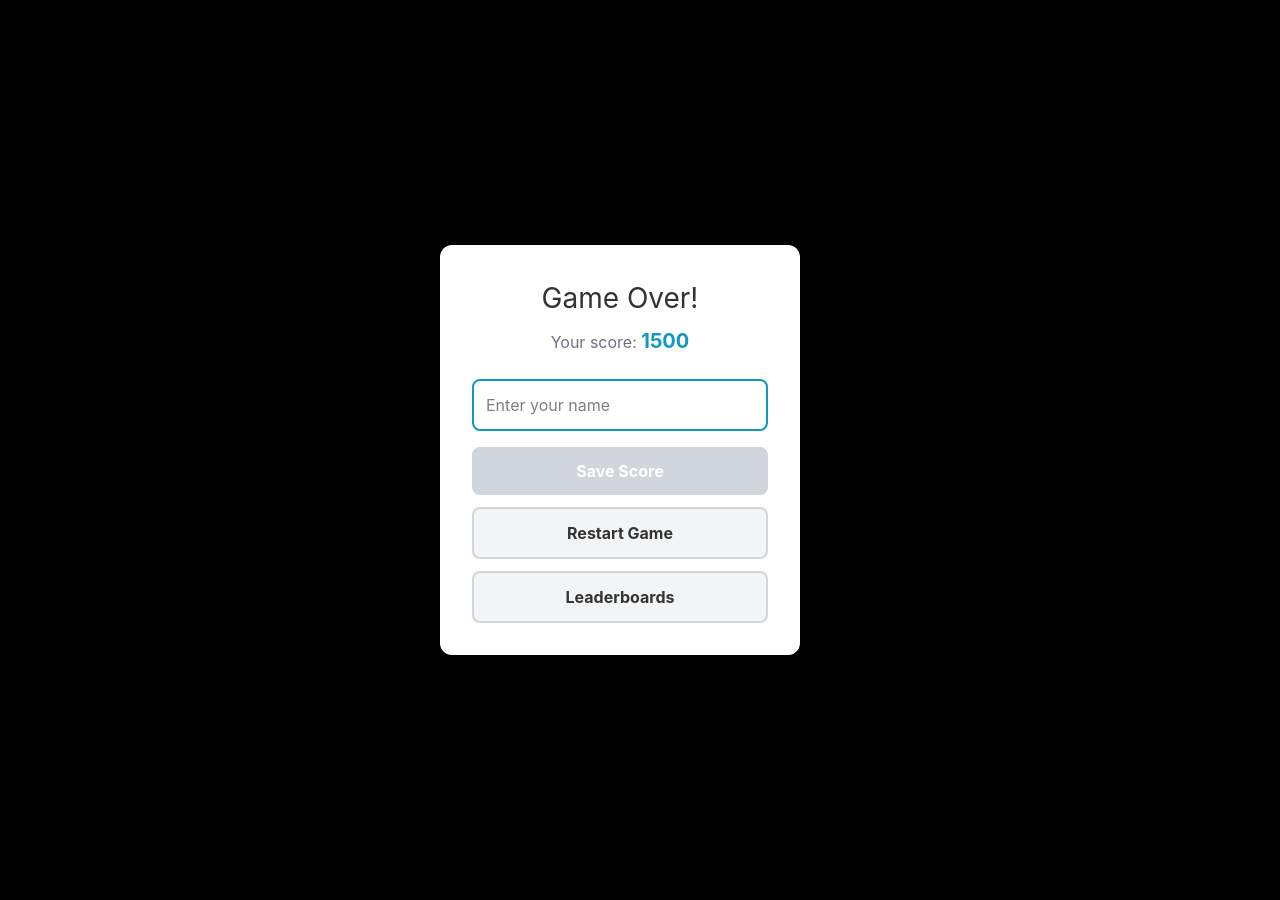
Test: ScoreModal › switches to leaderboard view when Leaderboards button is clicked
Click the button "Leaderboards". click: (620, 597)
box: [472,571,768,623]
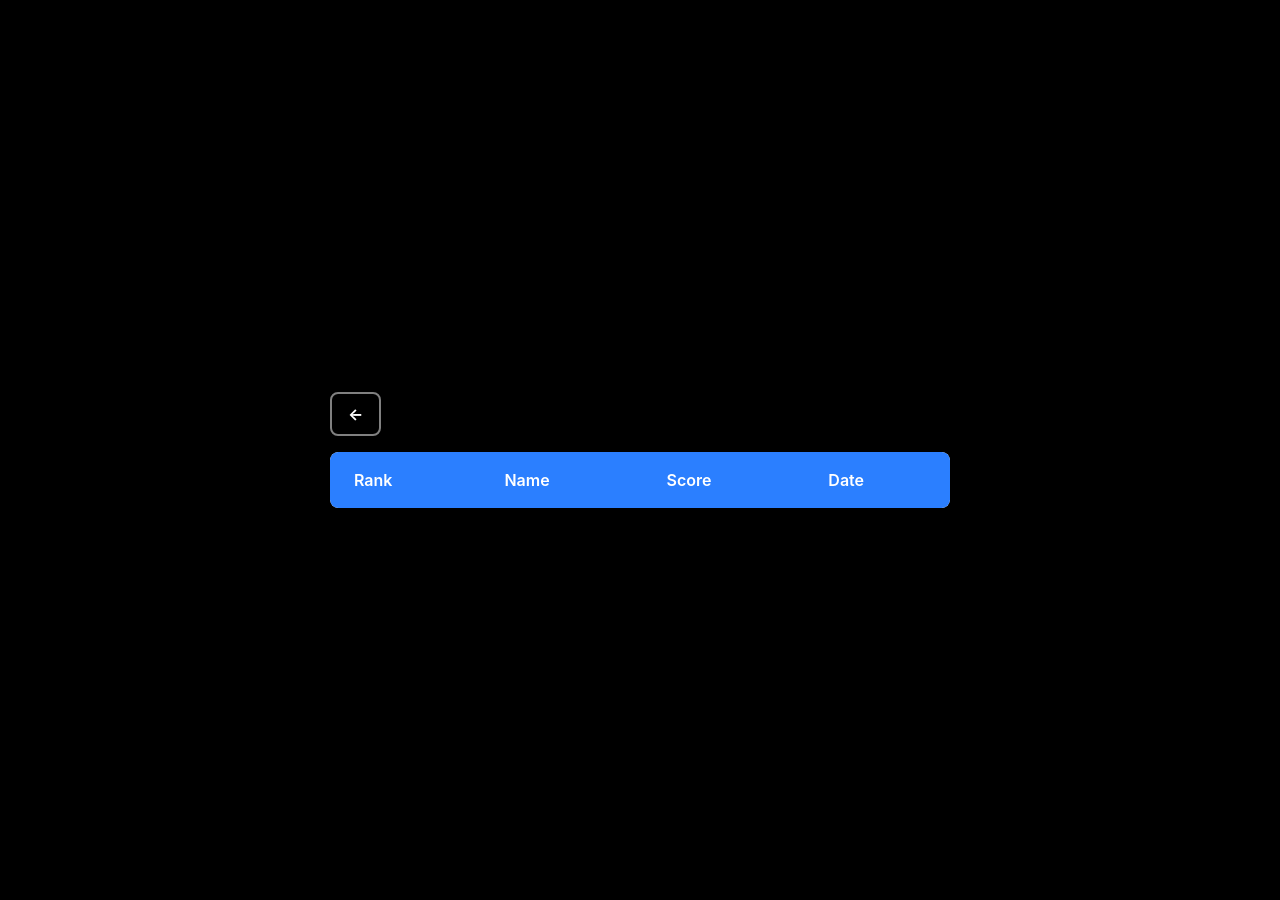
expect the column heading "Rank" is shown: met, box [330,452,480,508]
